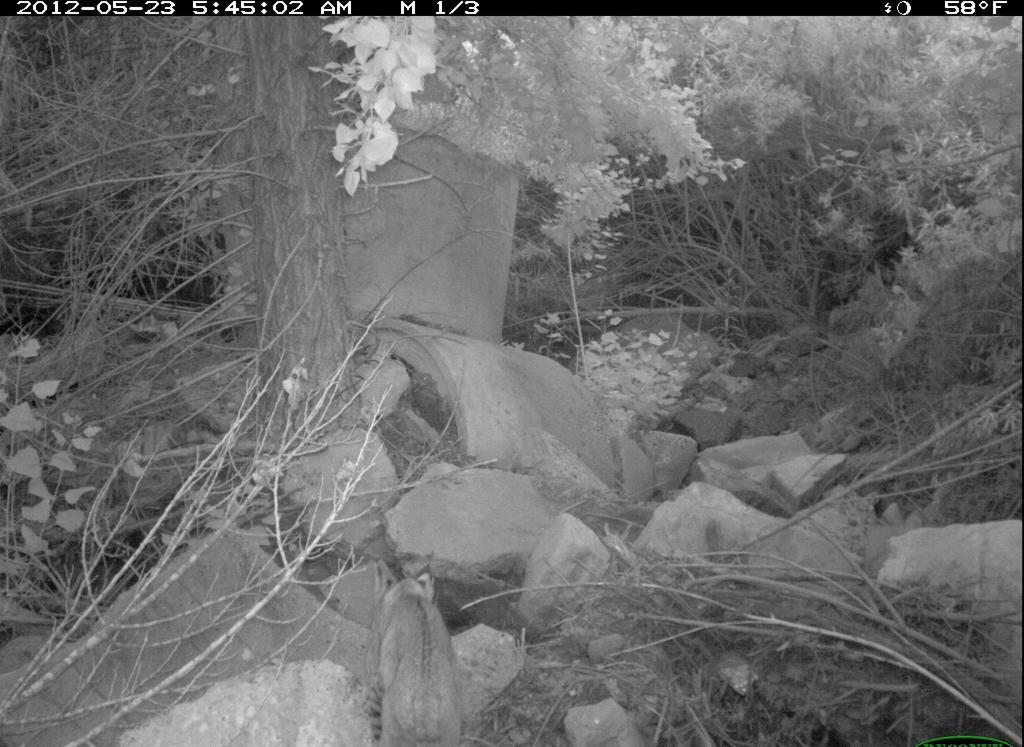bobcat: (361, 556, 484, 744)
